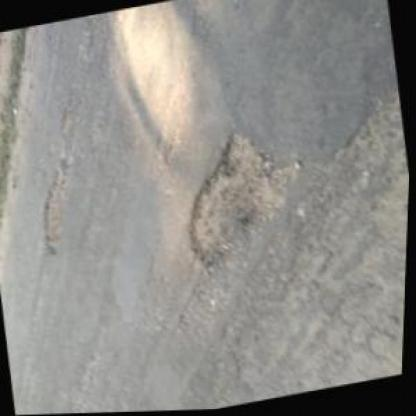pothole: (168, 115, 304, 272), (32, 162, 80, 257)
